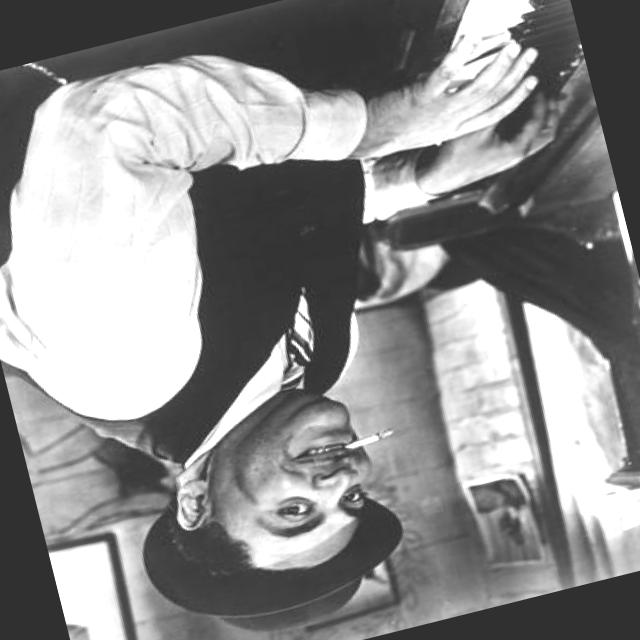smoke: (335, 418, 397, 458)
